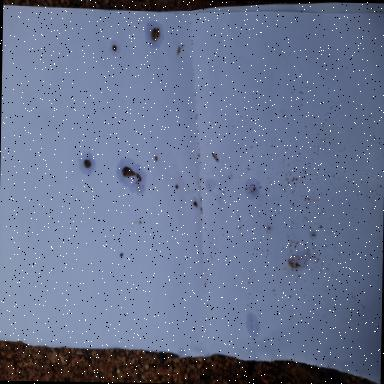pbw: (212, 152, 219, 163)
